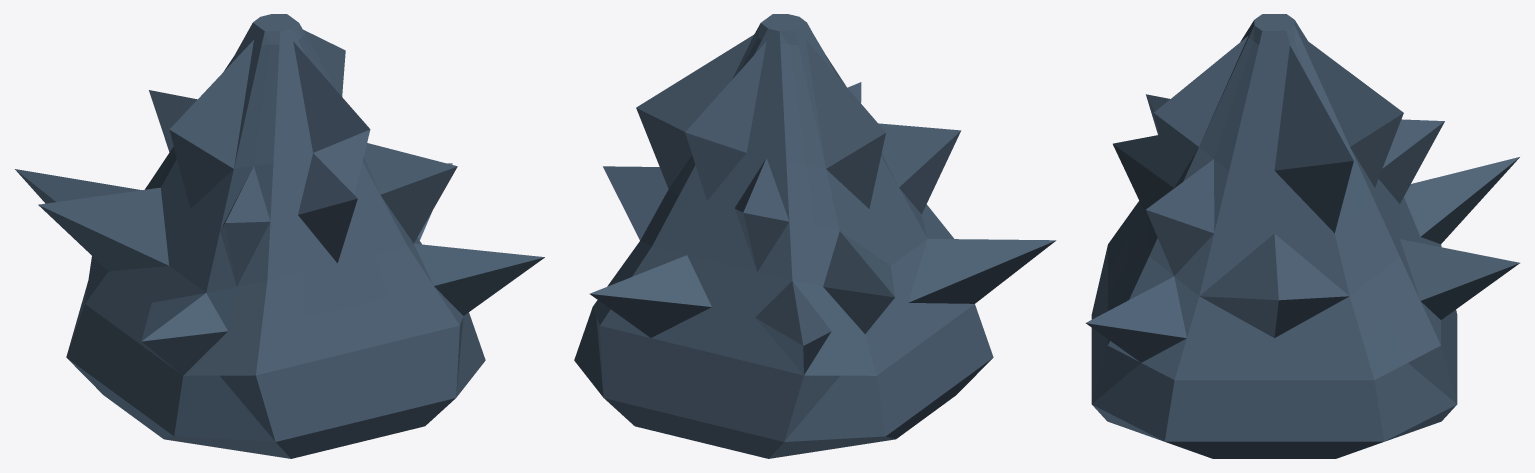
The model's file is Enemy.fbx.
The picture shows the model from 3 angles, left to right: view 1: azimuth 30°, elevation 25°; view 2: azimuth 150°, elevation 25°; view 3: azimuth 270°, elevation 25°; orthographic projection.
Visible parts, largest first — view 1: 立方体; view 2: 立方体; view 3: 立方体.
Boxes of the visible parts, box(x1,y1,x2,y2) form: 立方体: box(15, 14, 544, 458); 立方体: box(574, 14, 1056, 458); 立方体: box(1085, 14, 1519, 458).
Size of the model in its own units: 223 by 200 by 216.
